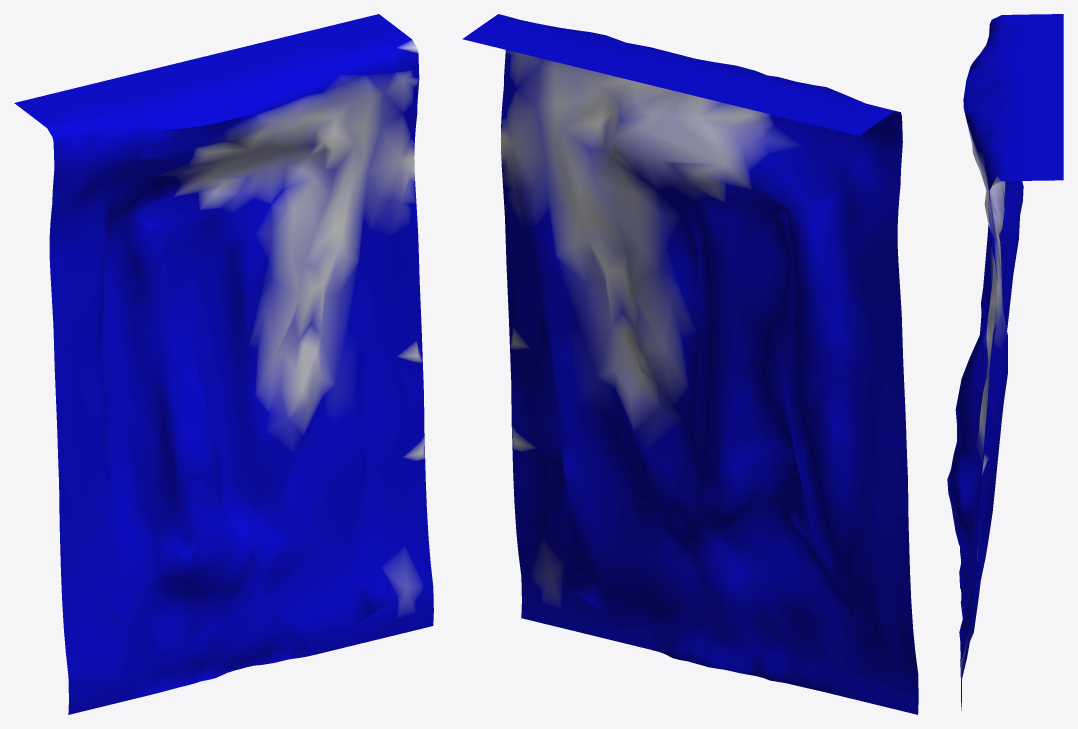
File: GeoTerrainCliffSide01.fbx
3 views of the same model, side by side, from view 1: azimuth 30°, elevation 25°; view 2: azimuth 150°, elevation 25°; view 3: azimuth 270°, elevation 25° (orthographic). The views are drawn at different scales.
Visible parts, largest first — view 1: GeoTerrainCliffSide01_LOD0; view 2: GeoTerrainCliffSide01_LOD0; view 3: GeoTerrainCliffSide01_LOD0.
Part boxes in pixels (left/top/right/bottom): GeoTerrainCliffSide01_LOD0: left=14, top=14, right=433, bottom=714; GeoTerrainCliffSide01_LOD0: left=462, top=14, right=918, bottom=714; GeoTerrainCliffSide01_LOD0: left=947, top=14, right=1063, bottom=710.
Size of what is drawn, in the model's own units: 1000 by 1500 by 295.
